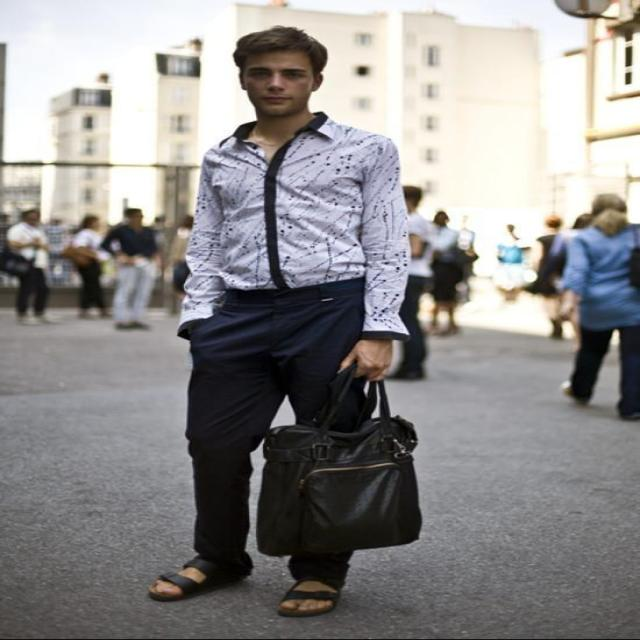pants: (186, 282, 370, 589)
shirt: (174, 110, 410, 340)
